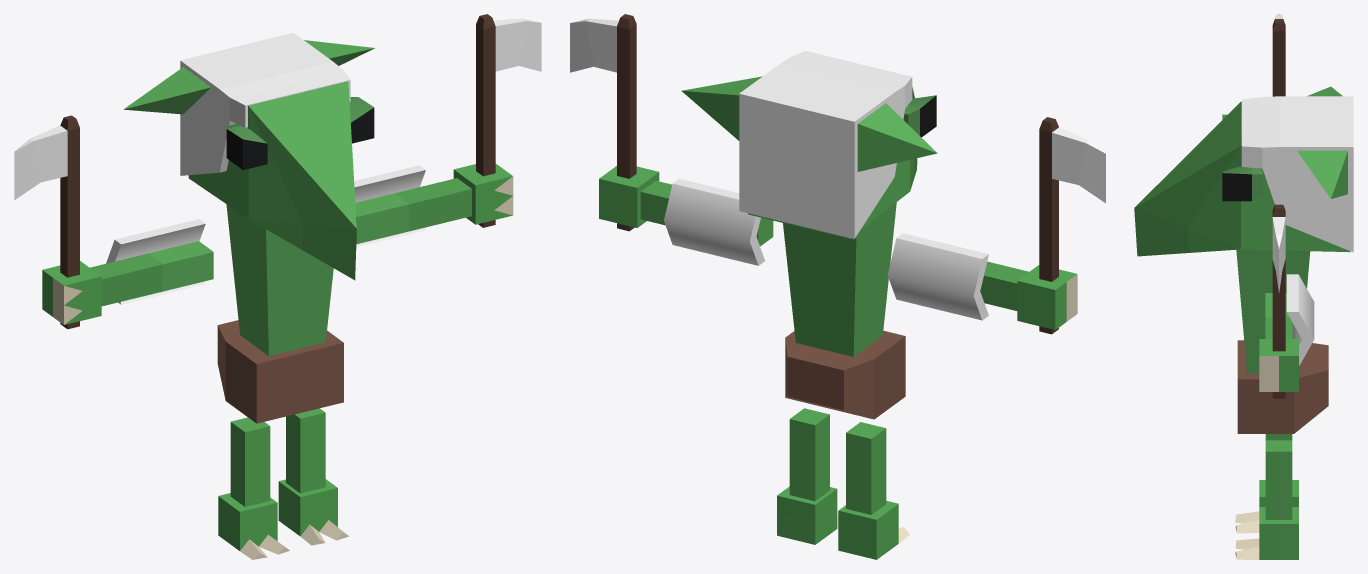
Rendered from GoblinBeserker.fbx.
3 views of the same model, side by side, from view 1: azimuth 30°, elevation 25°; view 2: azimuth 150°, elevation 25°; view 3: azimuth 270°, elevation 25° (orthographic). The views are drawn at different scales.
Parts seen in each view (by area): view 1: Head, Helm, Torso, Hip, Axe_R, Axe_L, Arm_L, Arm_R, Leg_R, Leg_L, Foot_R, Foot_L (+4 smaller); view 2: Helm, Torso, Hip, Head, Shoulder_Guard_R, Shoulder_Guard_L, Axe_R, Axe_L, Leg_L, Leg_R, Hand_R, Foot_R (+4 smaller); view 3: Head, Helm, Hip, Torso, Foot_L, Leg_L, Axe_L, Hand_L, Shoulder_Guard_L, Axe_R, Foot_R, Arm_L.
Part boxes in pixels (left/top/right/bottom): Head: left=123, top=40, right=374, bottom=280; Helm: left=180, top=32, right=350, bottom=175; Torso: left=226, top=204, right=333, bottom=355; Hip: left=217, top=320, right=343, bottom=423; Axe_R: left=14, top=115, right=79, bottom=329; Axe_L: left=476, top=14, right=541, bottom=227; Arm_L: left=355, top=178, right=471, bottom=244; Arm_R: left=90, top=241, right=213, bottom=306; Leg_R: left=230, top=417, right=270, bottom=506; Leg_L: left=286, top=408, right=325, bottom=493; Foot_R: left=218, top=493, right=289, bottom=559; Foot_L: left=278, top=479, right=348, bottom=545; Helm: left=739, top=51, right=912, bottom=238; Torso: left=783, top=202, right=896, bottom=356; Hip: left=785, top=330, right=905, bottom=419; Head: left=681, top=76, right=937, bottom=238; Shoulder_Guard_R: left=887, top=233, right=988, bottom=320; Shoulder_Guard_L: left=664, top=178, right=764, bottom=265; Axe_R: left=1039, top=117, right=1105, bottom=334; Axe_L: left=570, top=14, right=636, bottom=231; Leg_L: left=789, top=408, right=829, bottom=501; Leg_R: left=846, top=422, right=886, bottom=514; Hand_R: left=1017, top=265, right=1077, bottom=329; Foot_R: left=838, top=501, right=910, bottom=559; Head: left=1134, top=86, right=1350, bottom=256; Helm: left=1242, top=96, right=1353, bottom=252; Hip: left=1237, top=340, right=1328, bottom=433; Torso: left=1236, top=249, right=1310, bottom=373; Foot_L: left=1235, top=507, right=1298, bottom=559; Leg_L: left=1265, top=440, right=1292, bottom=519; Axe_L: left=1272, top=204, right=1285, bottom=398; Hand_L: left=1259, top=339, right=1298, bottom=391; Shoulder_Guard_L: left=1286, top=274, right=1314, bottom=365; Axe_R: left=1272, top=14, right=1285, bottom=96; Foot_R: left=1235, top=480, right=1298, bottom=533; Arm_L: left=1265, top=293, right=1292, bottom=338.
Size of the model in its own units: 13.99 by 11.77 by 5.51.
